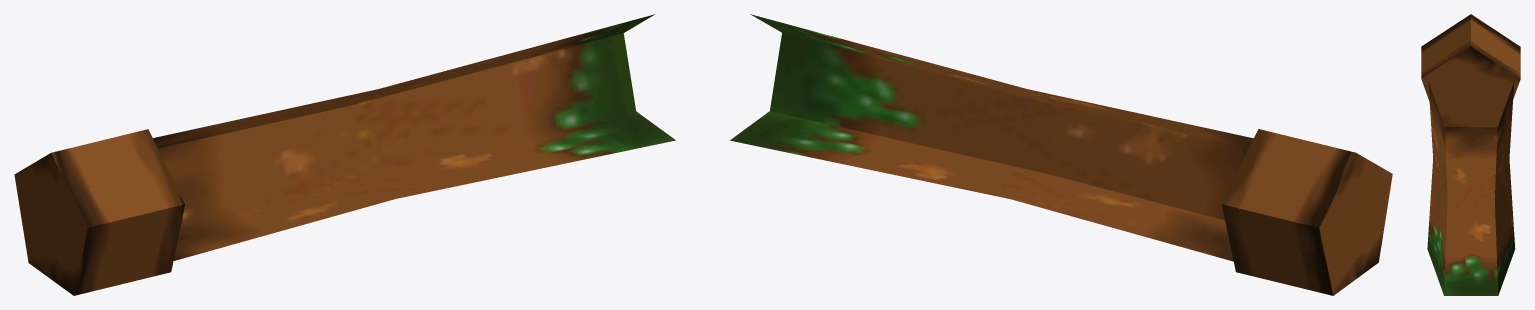
File: Rohr_StückDünn [Braun]_2023.glb
3 views of the same model, side by side, from view 1: azimuth 30°, elevation 25°; view 2: azimuth 150°, elevation 25°; view 3: azimuth 270°, elevation 25° (orthographic). The views are drawn at different scales.
Visible parts, largest first — view 1: pCylinderShape79, pCylinderShape80; view 2: pCylinderShape79, pCylinderShape80; view 3: pCylinderShape79, pCylinderShape80.
Boxes of the visible parts, x1,y1,x2,y2 form: pCylinderShape79: (153,14,675,260); pCylinderShape80: (14,129,184,295); pCylinderShape79: (730,14,1253,261); pCylinderShape80: (1222,129,1392,295); pCylinderShape79: (1427,82,1515,295); pCylinderShape80: (1421,14,1520,127).
Bounding box in the file's own units: 0.545 × 0.109 × 0.1145.
2 materials, 2 textured.
